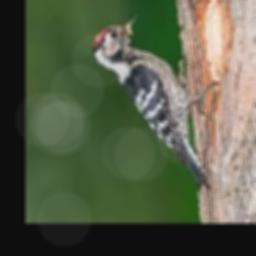Woodpecker: (91, 14, 219, 188)
